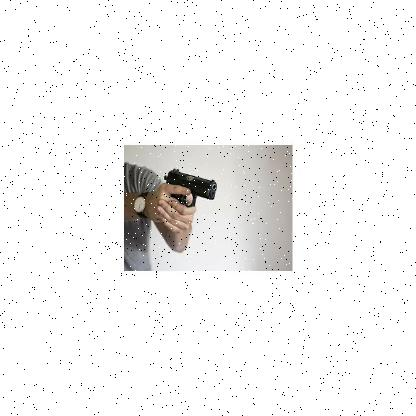gun: (159, 168, 215, 226)
